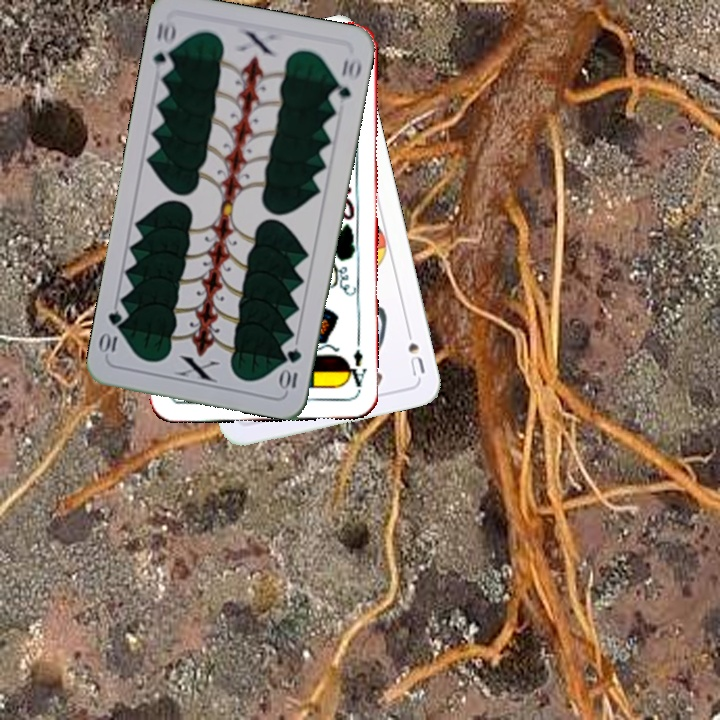EA: (342, 345, 369, 395)
G10: (149, 16, 179, 77), (277, 345, 304, 394)
SU: (401, 321, 428, 379)
